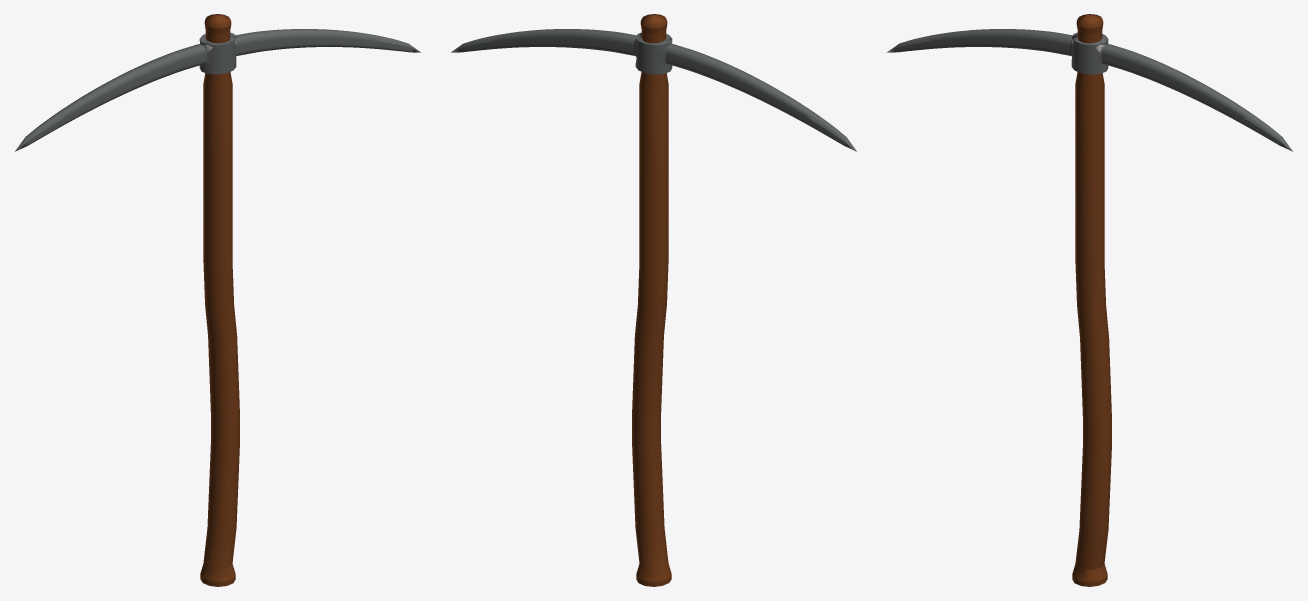
The model's file is Pick.fbx.
The picture shows the model from 3 angles, left to right: view 1: azimuth 30°, elevation 25°; view 2: azimuth 150°, elevation 25°; view 3: azimuth 330°, elevation 25°; orthographic projection.
Parts seen in each view (by area): view 1: Cylinder.001; view 2: Cylinder.001; view 3: Cylinder.001.
Boxes of the visible parts, bbox=[...] form: Cylinder.001: bbox=[15, 14, 420, 586]; Cylinder.001: bbox=[451, 14, 856, 586]; Cylinder.001: bbox=[887, 14, 1292, 586].
Bounding box in the file's own units: 2903 × 3894 × 225.
